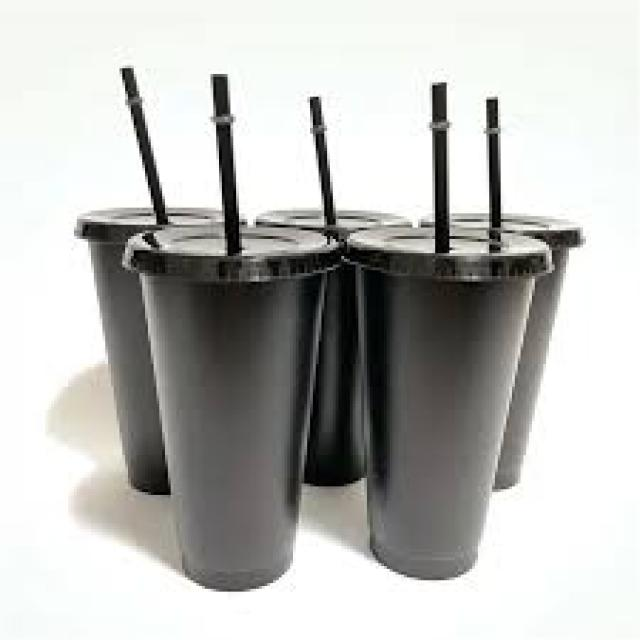cup: (116, 226, 344, 611), (340, 211, 558, 596)
